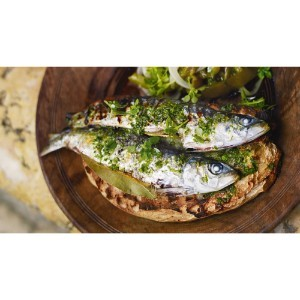sardine_brain food: (58, 92, 272, 210)
